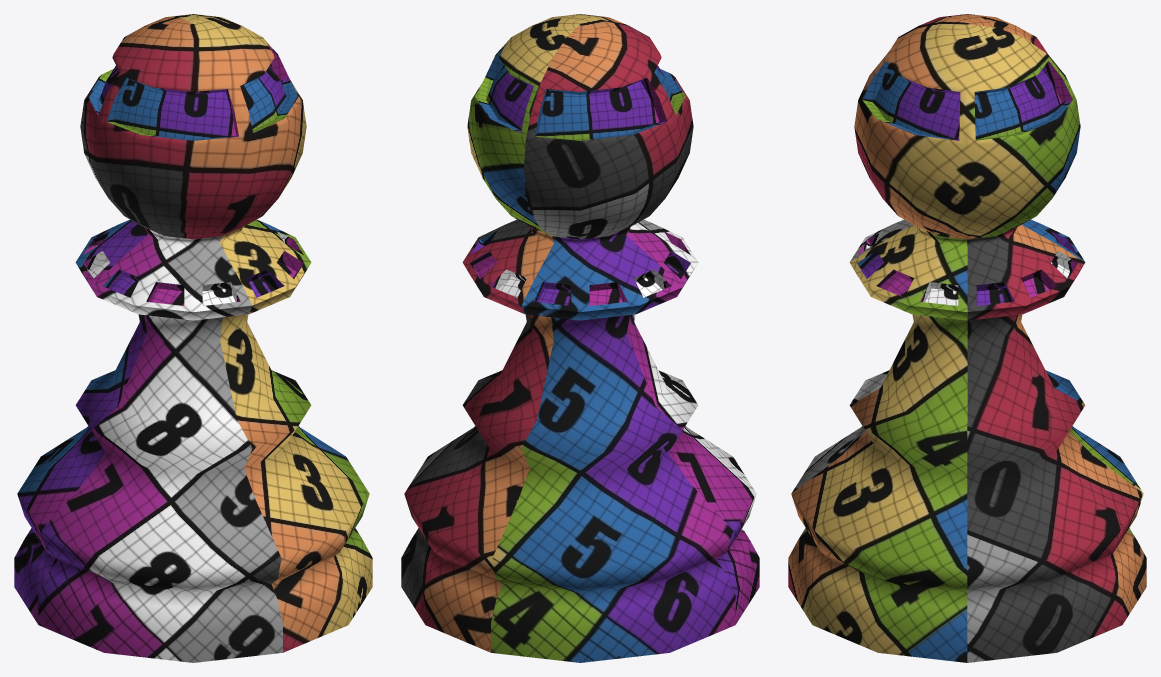
Rendered from Pawn.fbx.
The picture shows the model from 3 angles, left to right: view 1: azimuth 30°, elevation 25°; view 2: azimuth 150°, elevation 25°; view 3: azimuth 270°, elevation 25°; orthographic projection.
Parts seen in each view (by area): view 1: SM_Pawn_high; view 2: SM_Pawn_high; view 3: SM_Pawn_high.
Boxes of the visible parts, left/top/right/bottom form: SM_Pawn_high: left=14, top=14, right=372, bottom=662; SM_Pawn_high: left=401, top=14, right=759, bottom=662; SM_Pawn_high: left=788, top=14, right=1146, bottom=662.
Size of the model in its own units: 4.47 by 7.76 by 4.47.
